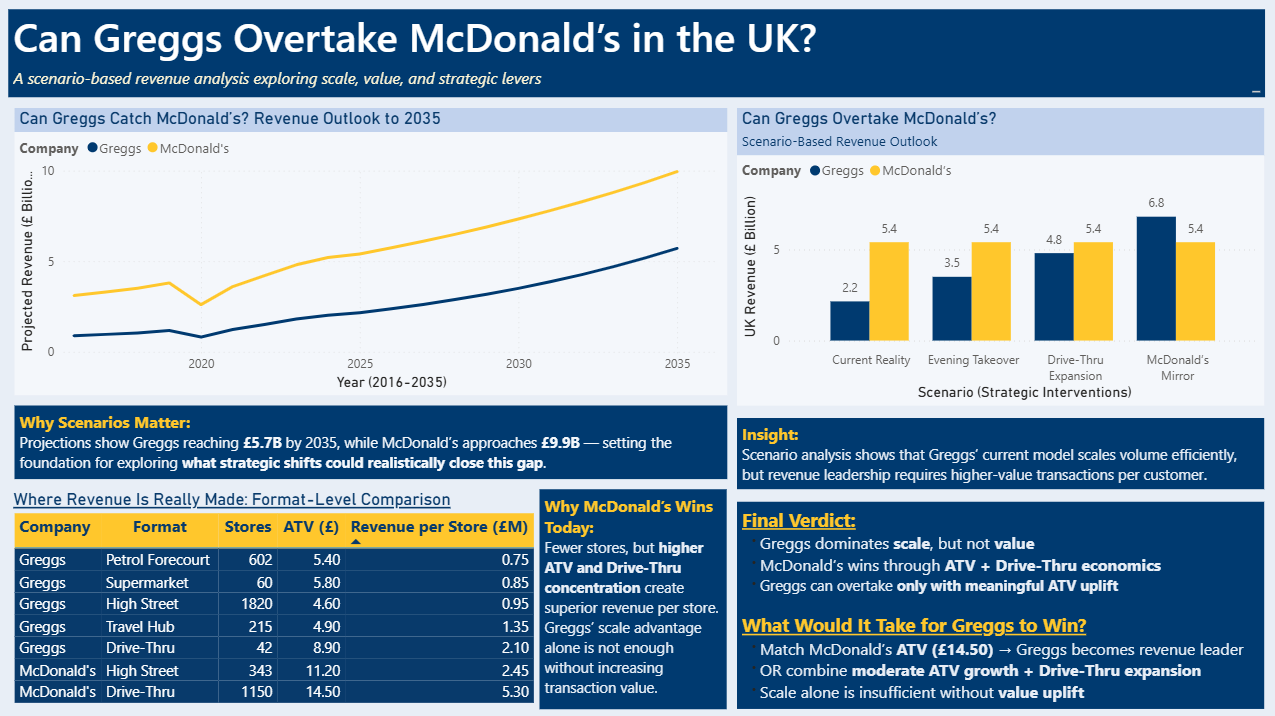

This screenshot's page, from the dashboard's own definition file:
{"tool":"powerbi","page":{"name":"Page 4","canvas":[1280,720],"ordinal":3},"visuals":[{"type":"shape","box":[0,0,1280,720],"z":0},{"type":"lineChart","title":"Can Greggs Catch McDonald’s? Revenue Outlook to 2035","fields":{"Category":["Table14.Year"],"Y":["Sum(Table14.Revenue (£B))"],"Series":["Table14.Company Name"]},"box":[17.5,110,712.5,287.5],"z":1000},{"type":"textbox","title":"Can Greggs Overtake McDonald’s in the UK?","box":[11,11,1257.1,88],"z":2000},{"type":"tableEx","title":"Where Revenue Is Really Made: Format-Level Comparison","fields":{"Values":["Table15.Company","Table15.Store Type","Sum(Table15.No. of Stores)","Sum(Table15.Avg. Transaction Value (ATV))","Sum(Table15.Estimated Annual Revenue per Store(£M))"]},"box":[11.2,491.2,531.2,221.2],"z":3000},{"type":"clusteredColumnChart","title":"Can Greggs Overtake McDonald’s? ","fields":{"Category":["Table18.Scenario_Name"],"Y":["Sum(Table18.Revenue_GBP_Bn)"],"Series":["Table18.Company"]},"box":[740,110,527.5,297.5],"z":4000},{"type":"textbox","title":"Why McDonald’s Wins Today: Fewer stores, but higher ATV and Drive-Thru concentration create superior revenue per store. Greggs’ scale advantage alone is not enough without increasing transaction value","box":[542.5,491.2,187.5,220],"z":5000},{"type":"textbox","title":"Why McDonald’s Wins Today: Fewer stores, but higher ATV and Drive-Thru concentration create superior revenue per store. Greggs’ scale advantage alone is not enough without increasing transaction value","box":[17.5,407.5,712.5,73.8],"z":6000},{"type":"textbox","title":"Why McDonald’s Wins Today: Fewer stores, but higher ATV and Drive-Thru concentration create superior revenue per store. Greggs’ scale advantage alone is not enough without increasing transaction value","box":[740,420,527.5,71.2],"z":7000},{"type":"textbox","title":"Why McDonald’s Wins Today: Fewer stores, but higher ATV and Drive-Thru concentration create superior revenue per store. Greggs’ scale advantage alone is not enough without increasing transaction value","box":[740,503.8,527.5,207.5],"z":8000}]}

Visuals, with their boxes in screenshot pixels (x1, y1, x2, y2), scaled from the page's 1280x720 canvas onto the 1275x716 screenshot:
shape: x1=0 y1=0 x2=1274 y2=715
"Can Greggs Catch McDonald’s? Revenue Outlook to 2035" lineChart: x1=17 y1=109 x2=727 y2=395
"Can Greggs Overtake McDonald’s in the UK?" textbox: x1=11 y1=11 x2=1263 y2=98
"Where Revenue Is Really Made: Format-Level Comparison" tableEx: x1=11 y1=488 x2=540 y2=708
"Can Greggs Overtake McDonald’s? " clusteredColumnChart: x1=737 y1=109 x2=1263 y2=405
"Why McDonald’s Wins Today: Fewer stores, but higher ATV and Drive-Thru concentration create superior revenue per store. Greggs’ scale advantage alone is not enough without increasing transaction value" textbox: x1=540 y1=488 x2=727 y2=707
"Why McDonald’s Wins Today: Fewer stores, but higher ATV and Drive-Thru concentration create superior revenue per store. Greggs’ scale advantage alone is not enough without increasing transaction value" textbox: x1=17 y1=405 x2=727 y2=479
"Why McDonald’s Wins Today: Fewer stores, but higher ATV and Drive-Thru concentration create superior revenue per store. Greggs’ scale advantage alone is not enough without increasing transaction value" textbox: x1=737 y1=418 x2=1263 y2=488
"Why McDonald’s Wins Today: Fewer stores, but higher ATV and Drive-Thru concentration create superior revenue per store. Greggs’ scale advantage alone is not enough without increasing transaction value" textbox: x1=737 y1=501 x2=1263 y2=707
